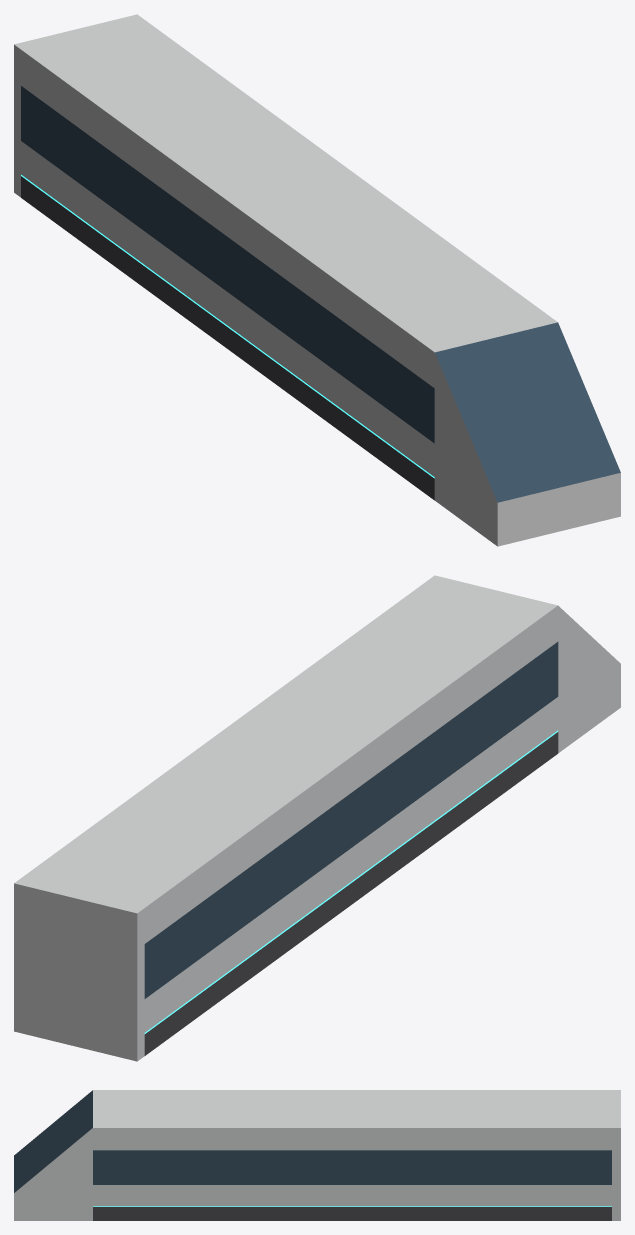
Rendered from 373_far.fbx.
3 views of the same model, one above another, from view 1: azimuth 30°, elevation 25°; view 2: azimuth 150°, elevation 25°; view 3: azimuth 270°, elevation 25° (orthographic). The views are drawn at different scales.
Visible parts, largest first — view 1: 373_far; view 2: 373_far; view 3: 373_far.
Part boxes in pixels (x1,y1,x2,y2): 373_far: (14,14,620,546); 373_far: (14,575,620,1061); 373_far: (14,1090,620,1220).
Bounding box in the file's own units: 2.95 × 3.38 × 20.
